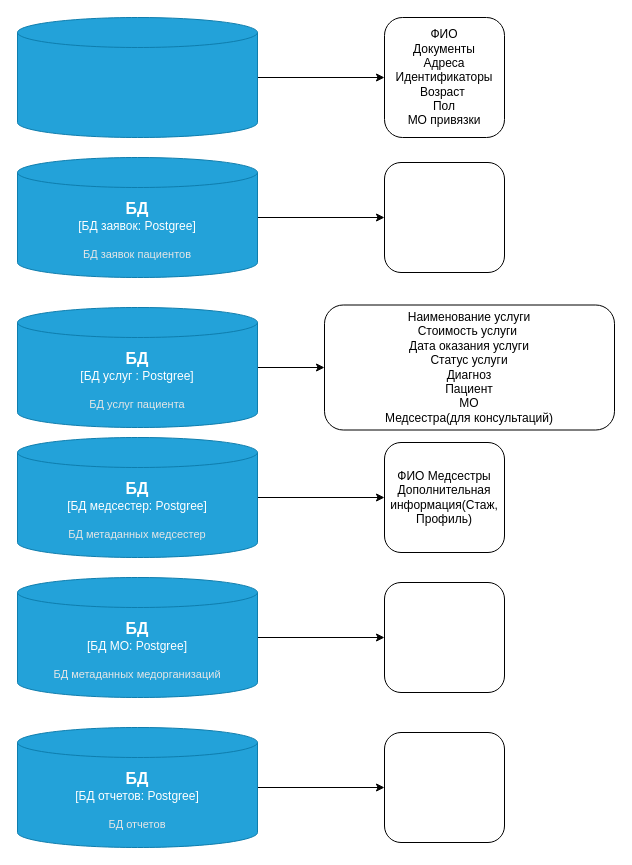
This 632x865 diagram has some shape labels left out. The centre of each missing label's shape, as x and y in pixels:
БД [БД пациентов: Postgree] БД данных пациента: (137,77)
Заявка Пациент Медсестра МО: (444,217)
Название МО, Адрес, Профиль: (444,637)
Название отчета Дата формирования Пользователь-автор Файл отчета: (444,787)
